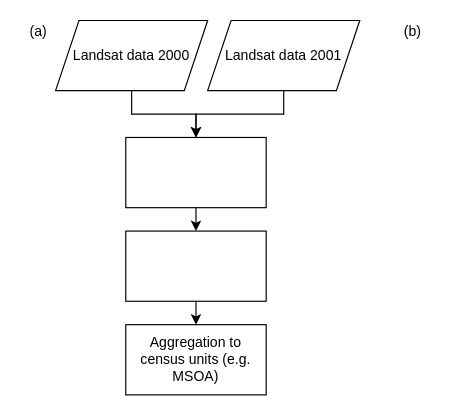
Image size: 449x415. Some labels were removed from this diagram. The centre of each missing label's shape, as x and y in pixels:
Difference in values: (195,265)
Unique values attributed to both: (195,172)
